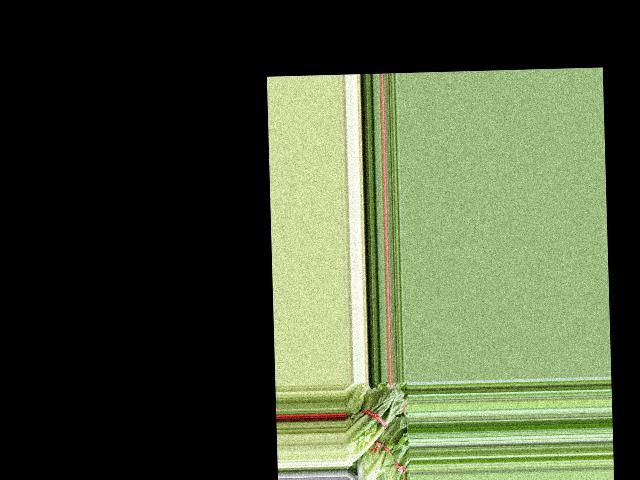lettuce: (343, 386, 406, 465)
